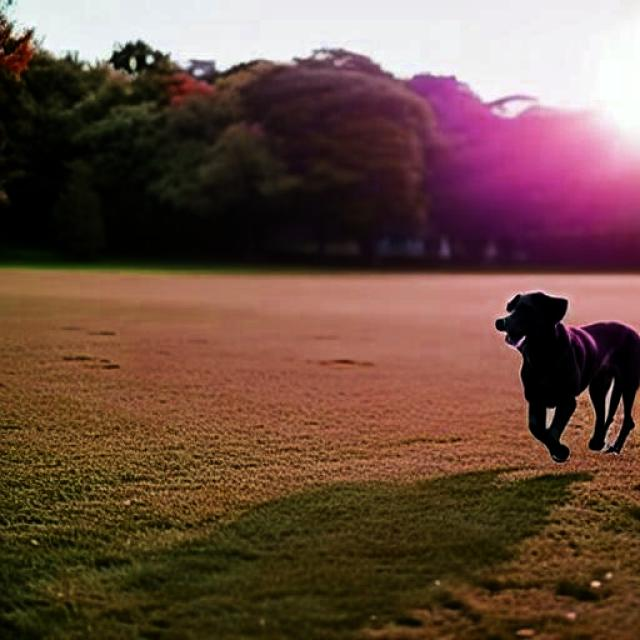Dog: (494, 290, 640, 464)
